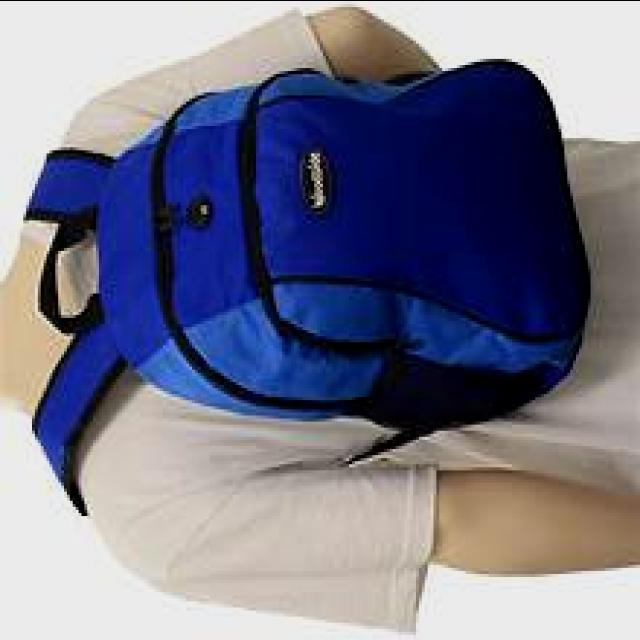backpack: (22, 59, 592, 519)
